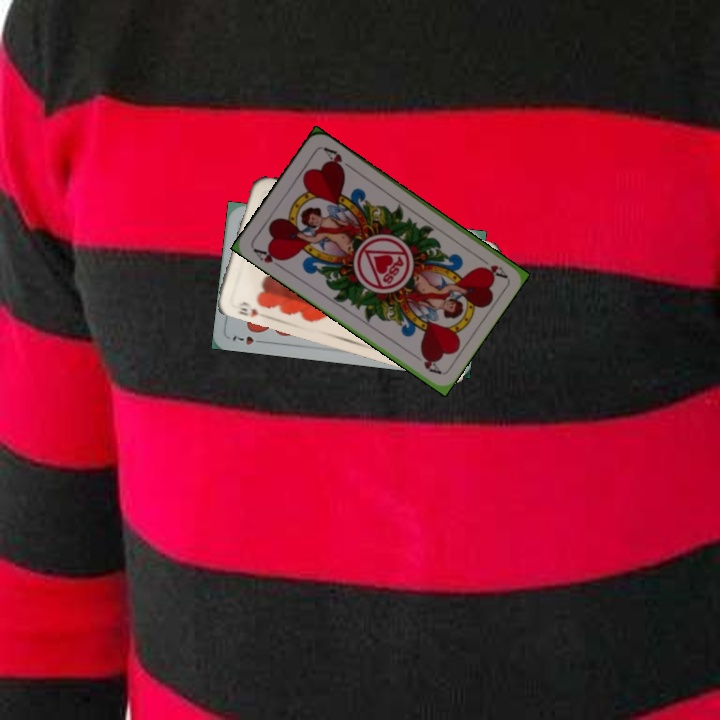H10: (234, 297, 269, 320)
H7: (228, 331, 268, 348)
HA: (473, 251, 509, 281), (249, 244, 287, 271)
